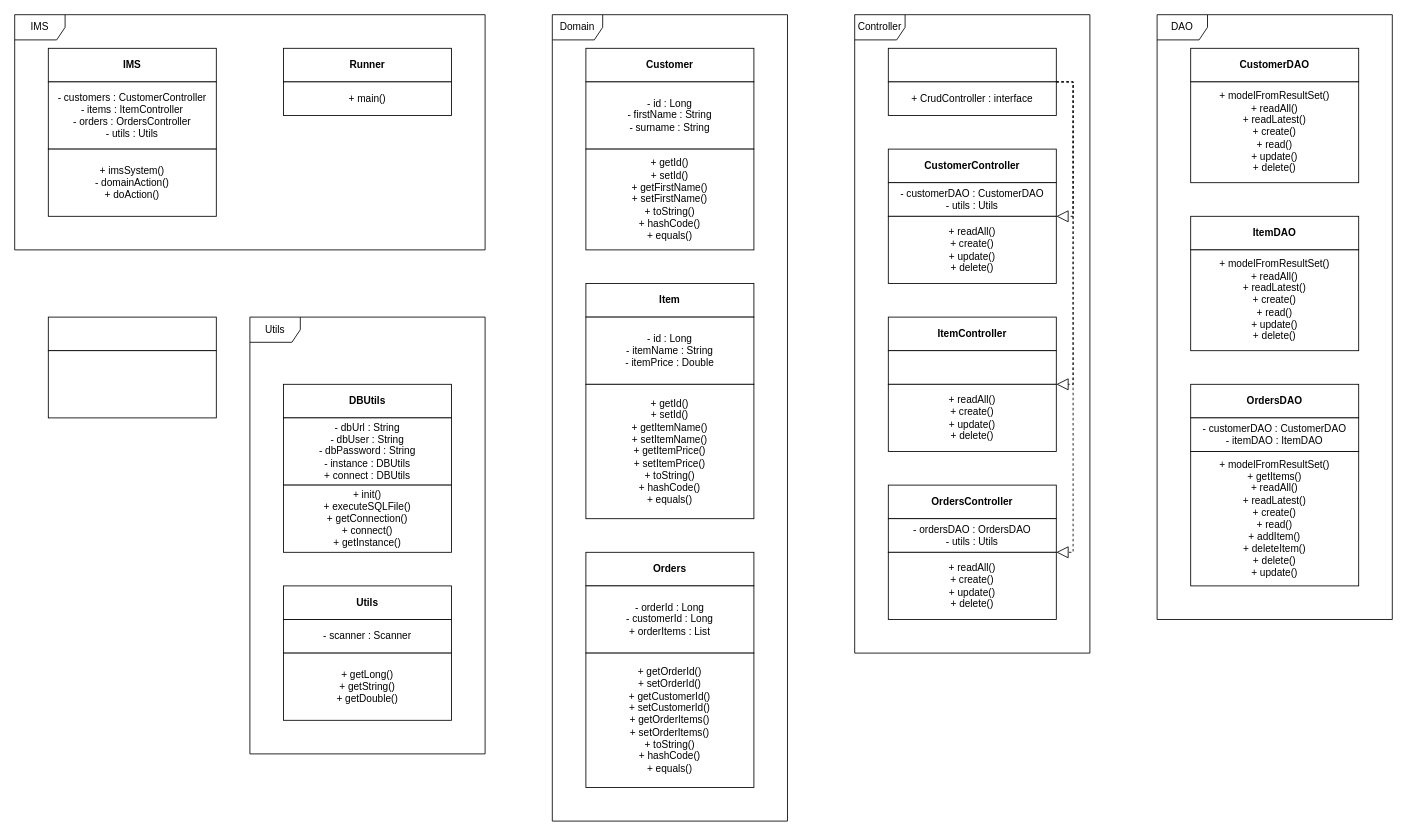
The diagram is 1407 pixels wide and 836 high, and some of its shapes have lost their labels. Each missing label, with the centre of its shape:
"- itemDAO : ItemDAO - utils : Utils" goes at [971,367].
"CrudController" goes at [971,64].
"customer item orders order_item" goes at [131,384].
"imsstarterproject (SQL Table)" goes at [131,333].
